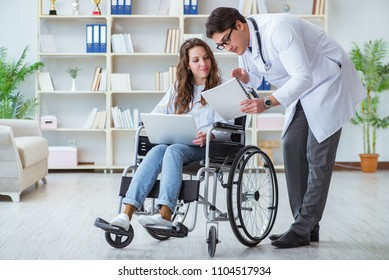wheelchair: (94, 37, 278, 257)
